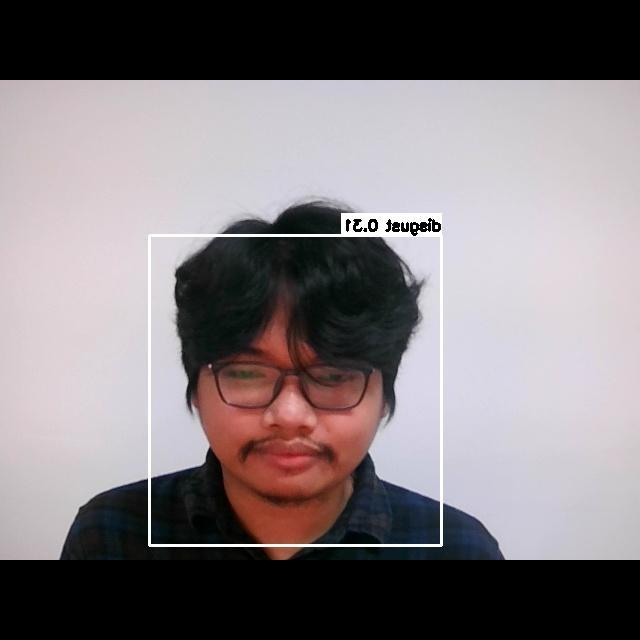Natural: (187, 329, 389, 480)
